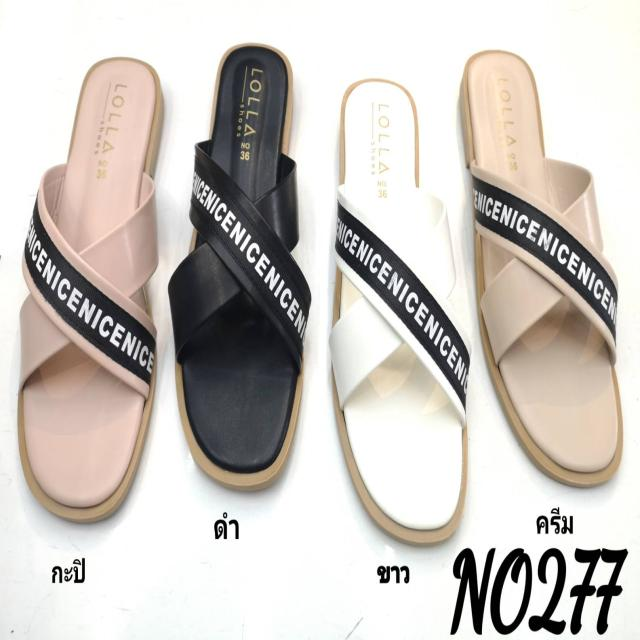black: (180, 45, 306, 482)
cream: (462, 44, 621, 486)
kapi: (16, 61, 159, 516)
white: (334, 82, 464, 538)
